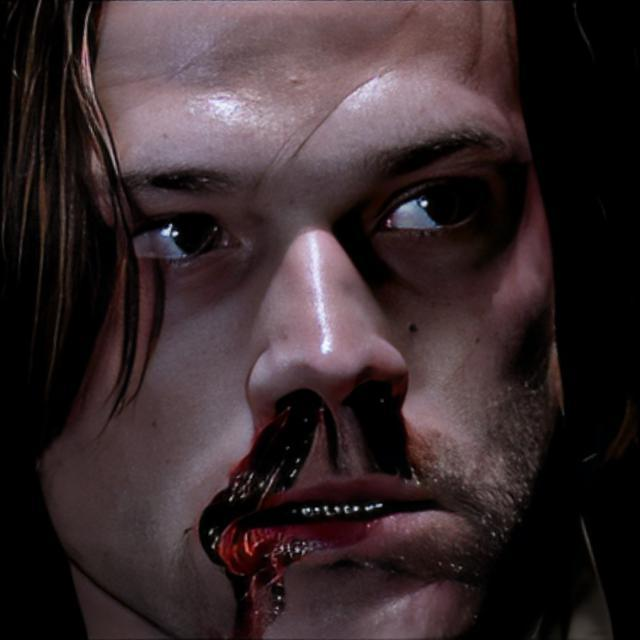fear: (19, 0, 568, 640)
